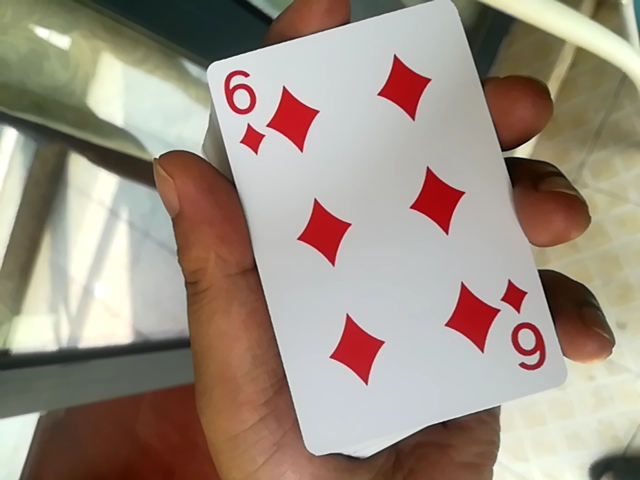fk 6: (208, 10, 553, 454)
